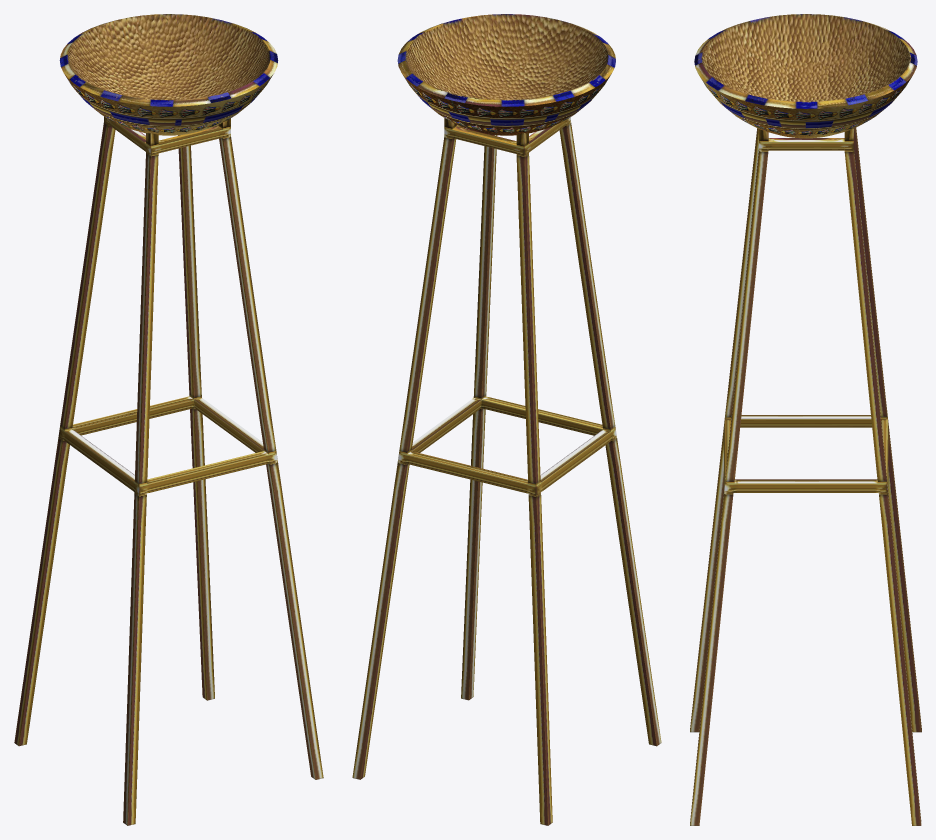
The model's file is Lamp 1.FBX.
3 views of the same model, side by side, from view 1: azimuth 30°, elevation 25°; view 2: azimuth 150°, elevation 25°; view 3: azimuth 270°, elevation 25° (orthographic). The views are drawn at different scales.
Visible parts, largest first — view 1: lamp; view 2: lamp; view 3: lamp.
Part boxes in pixels (x1,y1,x2,y2): lamp: (14, 14, 323, 825); lamp: (352, 14, 661, 825); lamp: (690, 14, 921, 825).
Size of the model in its own units: 723 by 2480 by 724.
1 material, 1 textured.
